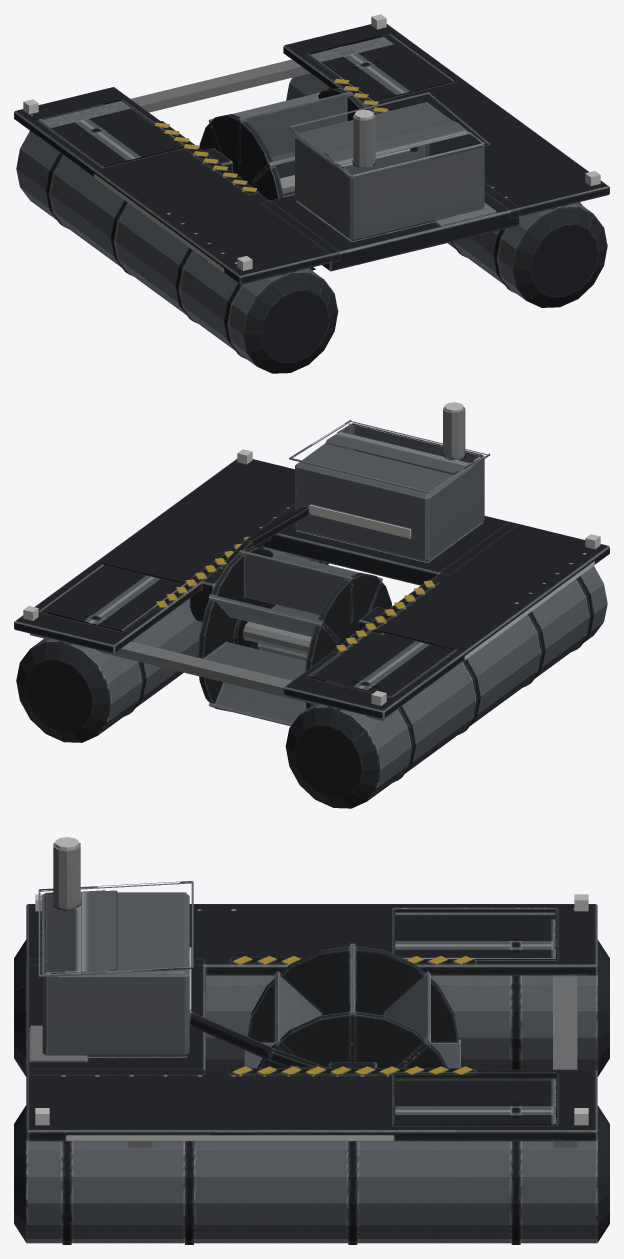
File: chs_tidal.fbx
3 views of the same model, one above another, from view 1: azimuth 30°, elevation 25°; view 2: azimuth 150°, elevation 25°; view 3: azimuth 270°, elevation 25° (orthographic). The views are drawn at different scales.
Parts seen in each view (by area): view 1: base_bar, rotor_bar, base_glow_running_bar; view 2: base_bar, rotor_bar, base_glow_running_bar, base_glow_power_bar; view 3: base_bar, rotor_bar, base_glow_running_bar.
Part boxes in pixels (bbox=[...]): base_bar: bbox=[14, 24, 609, 373]; rotor_bar: bbox=[199, 88, 366, 200]; base_glow_running_bar: bbox=[23, 14, 600, 272]; base_bar: bbox=[14, 406, 609, 808]; rotor_bar: bbox=[197, 546, 392, 726]; base_glow_running_bar: bbox=[23, 449, 600, 705]; base_glow_power_bar: bbox=[309, 402, 463, 538]; base_bar: bbox=[14, 842, 609, 1244]; rotor_bar: bbox=[244, 943, 460, 1067]; base_glow_running_bar: bbox=[35, 894, 588, 1140].
Bounding box in the file's own units: 1321 × 823 × 1460.
2 materials, 2 textured.
